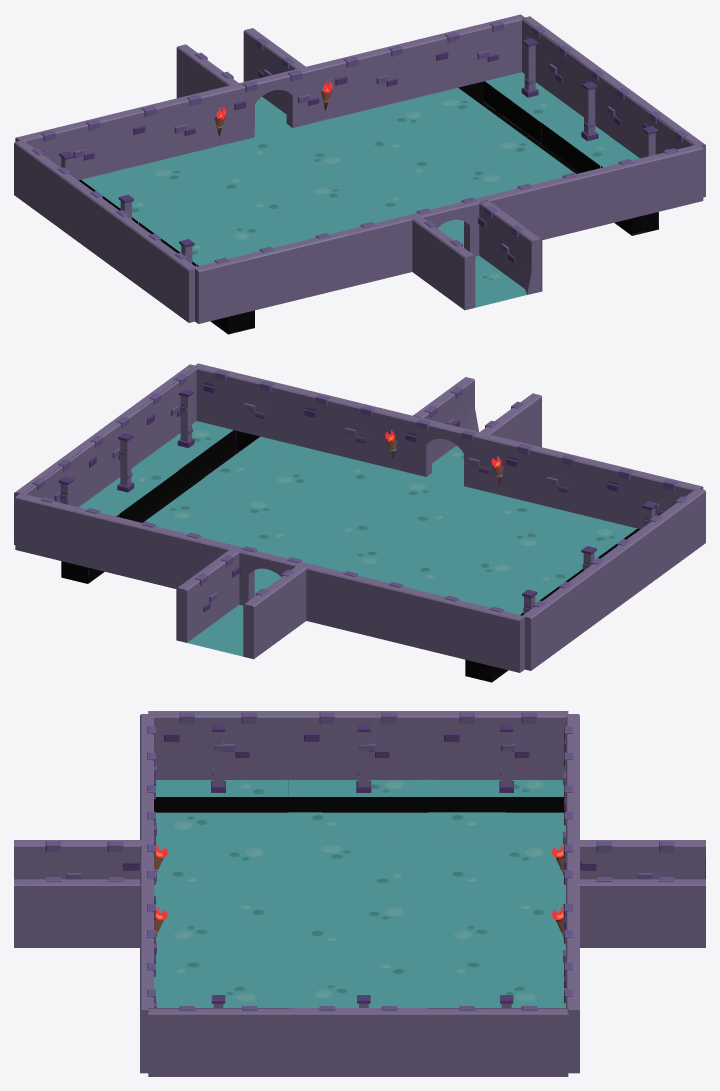
Rendered from BossRoomBake.glb.
3 views of the same model, one above another, from view 1: azimuth 30°, elevation 25°; view 2: azimuth 150°, elevation 25°; view 3: azimuth 270°, elevation 25° (orthographic). The views are drawn at different scales.
Parts seen in each view (by area): view 1: Bake; view 2: Bake; view 3: Bake, Torch.001.
Boxes of the visible parts, x1,y1,x2,y2 form: Bake: (14,14,705,334); Bake: (14,363,705,682); Bake: (14,711,705,1076); Torch.001: (154,845,565,944).
Bounding box in the file's own units: 51.21 × 7.1 × 49.43.
5 materials, 1 textured.
